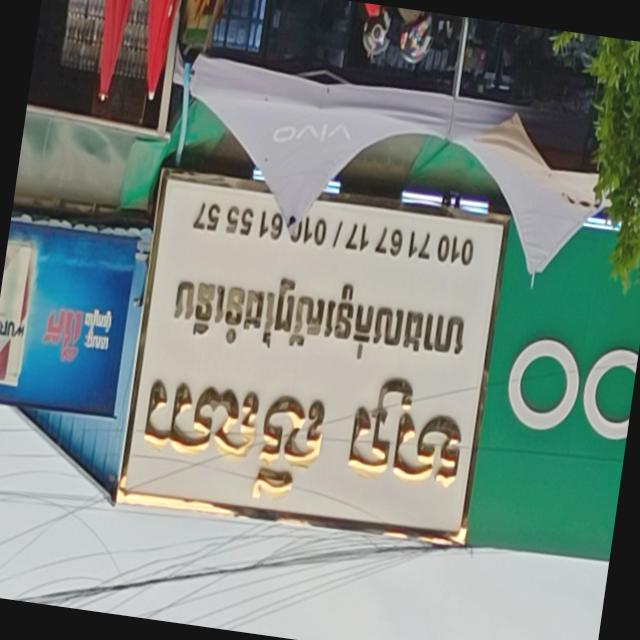1: (127, 348, 473, 532)
Yolov11_80vkh: (169, 250, 471, 380)
